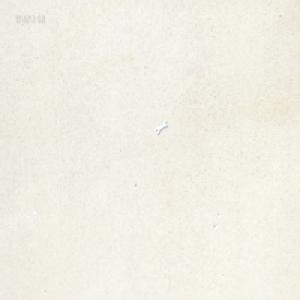Wrench: (155, 121, 167, 135)
